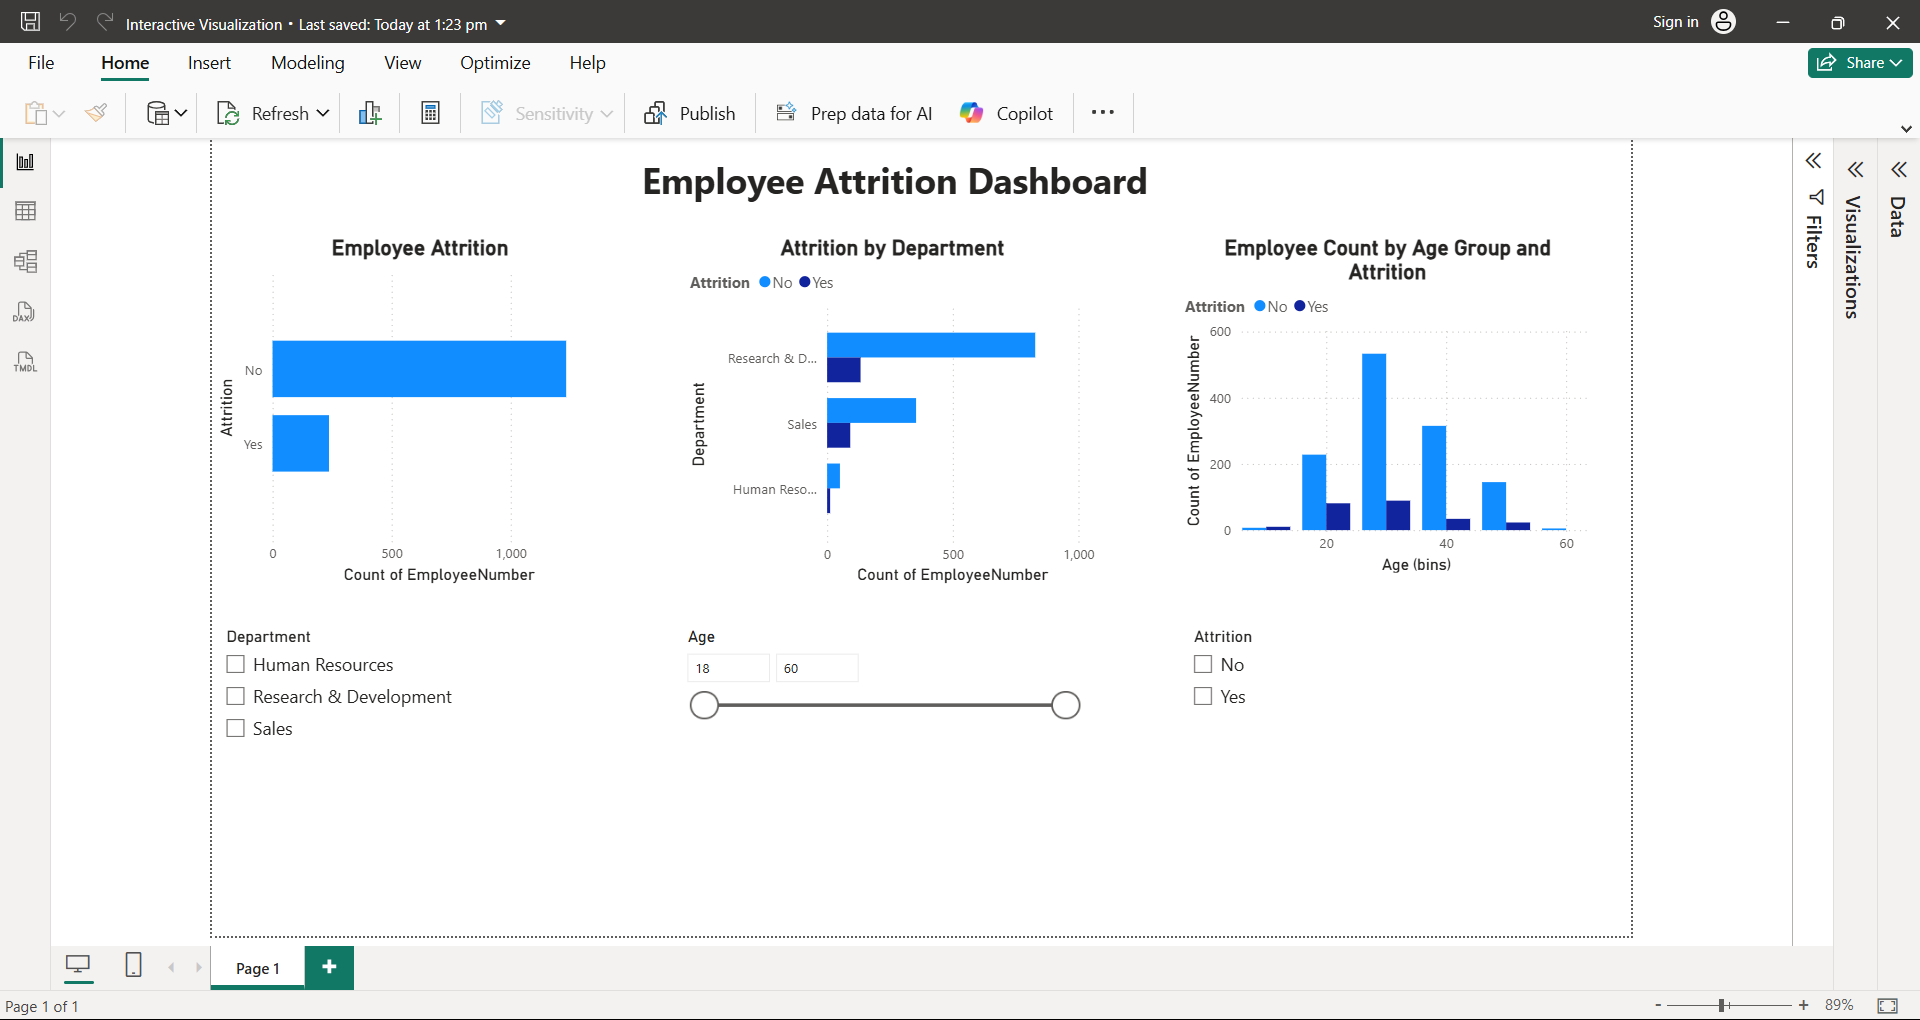

The page's visual inventory and layout, read from the dashboard file:
{"tool":"powerbi","page":{"name":"Page 1","canvas":[1280,720],"ordinal":0},"visuals":[{"type":"clusteredBarChart","title":"Employee Attrition","fields":{"Category":["WA_Fn-UseC_-HR-Employee-Attrition.Attrition"],"Y":["CountNonNull(WA_Fn-UseC_-HR-Employee-Attrition.EmployeeNumber)"]},"box":[0,88,375.4,319.2],"z":0},{"type":"clusteredBarChart","title":"Attrition by Department","fields":{"Category":["WA_Fn-UseC_-HR-Employee-Attrition.Department"],"Y":["CountNonNull(WA_Fn-UseC_-HR-Employee-Attrition.EmployeeNumber)"],"Series":["WA_Fn-UseC_-HR-Employee-Attrition.Attrition"]},"box":[425.5,88,375.4,319.2],"z":1},{"type":"clusteredColumnChart","title":"Employee Count by Age Group and Attrition","fields":{"Category":["WA_Fn-UseC_-HR-Employee-Attrition.Age (bins)"],"Y":["CountNonNull(WA_Fn-UseC_-HR-Employee-Attrition.EmployeeNumber)"],"Series":["WA_Fn-UseC_-HR-Employee-Attrition.Attrition"]},"box":[871.9,88,375.4,309.4],"z":2},{"type":"slicer","fields":{"Values":["WA_Fn-UseC_-HR-Employee-Attrition.Department"]},"box":[0,436,376,284],"z":3},{"type":"slicer","fields":{"Values":["WA_Fn-UseC_-HR-Employee-Attrition.Age"]},"box":[415.8,436.6,375.4,283.7],"z":4},{"type":"slicer","fields":{"Values":["WA_Fn-UseC_-HR-Employee-Attrition.Attrition"]},"box":[872,436,375,284],"z":5},{"type":"textbox","box":[100.3,11,1030.8,56.3],"z":6}]}

Visuals, with their boxes on the page's 1280x720 design canvas (x1, y1, x2, y2). These are canvas units, not pixel positions in the 1920x1020 screenshot, which may show the page scaled, cropped or inside an application window:
"Employee Attrition" clusteredBarChart: x1=0 y1=88 x2=375 y2=407
"Attrition by Department" clusteredBarChart: x1=426 y1=88 x2=801 y2=407
"Employee Count by Age Group and Attrition" clusteredColumnChart: x1=872 y1=88 x2=1247 y2=397
slicer - WA_Fn-UseC_-HR-Employee-Attrition.Department: x1=0 y1=436 x2=376 y2=720
slicer - WA_Fn-UseC_-HR-Employee-Attrition.Age: x1=416 y1=437 x2=791 y2=720
slicer - WA_Fn-UseC_-HR-Employee-Attrition.Attrition: x1=872 y1=436 x2=1247 y2=720
textbox: x1=100 y1=11 x2=1131 y2=67
